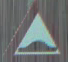Speed Breaker ahead: (7, 3, 62, 53)
